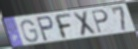7: (110, 5, 127, 33)
F: (52, 13, 74, 40)
G: (20, 19, 40, 44)
P: (35, 15, 55, 43), (90, 9, 110, 35)
X: (72, 10, 98, 38)
